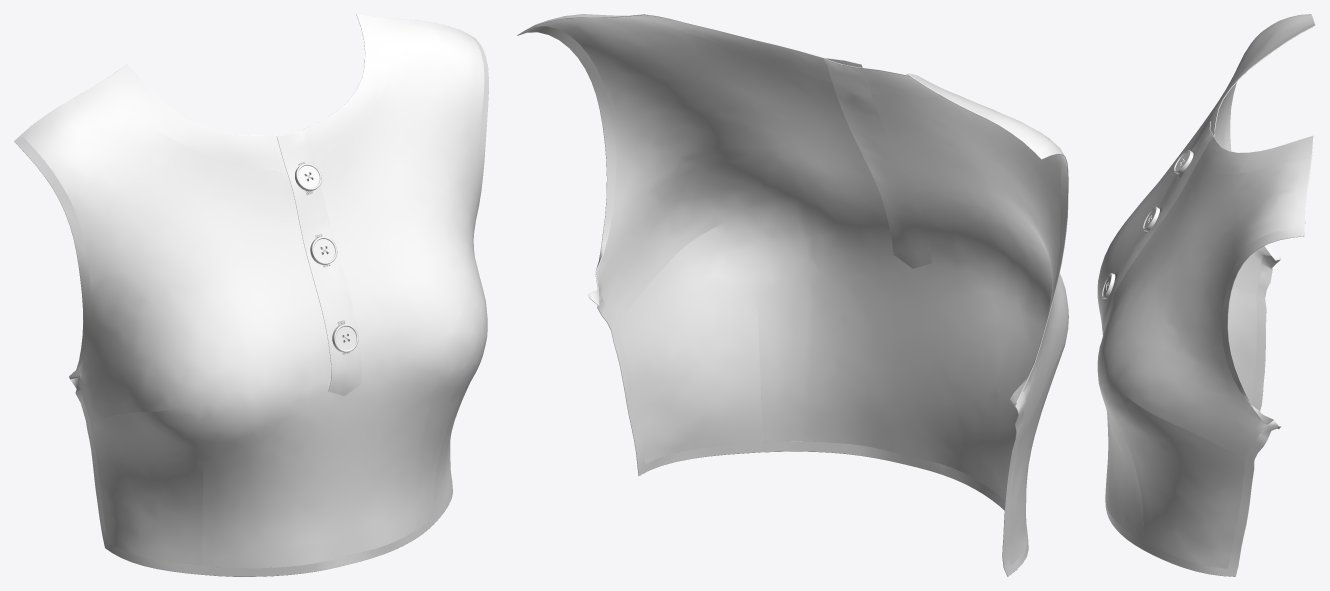
File: Mock_button_placket_front.glb
3 views of the same model, side by side, from view 1: azimuth 30°, elevation 25°; view 2: azimuth 150°, elevation 25°; view 3: azimuth 270°, elevation 25° (orthographic). The views are drawn at different scales.
Parts seen in each view (by area): view 1: mock_button_placket_front_10_Node, mock_button_placket_front_3_Node, contrast_Node, contrast_1_Node, mock_button_placket_front_Node, mock_button_placket_front_8_Node, mock_button_placket_front_4_Node, mock_button_placket_front_5_Node, mock_button_placket_front_7_Node, MatShape_598529_Node, MatShape_598539_Node, MatShape_598519_Node; view 2: mock_button_placket_front_10_Node, mock_button_placket_front_4_Node, contrast_1_Node, mock_button_placket_front_7_Node, mock_button_placket_front_8_Node, mock_button_placket_front_1_Node, contrast_Node, mock_button_placket_front_Node, mock_button_placket_front_5_Node; view 3: mock_button_placket_front_10_Node, contrast_1_Node, mock_button_placket_front_3_Node, mock_button_placket_front_1_Node, mock_button_placket_front_7_Node, mock_button_placket_front_5_Node, contrast_Node, mock_button_placket_front_9_Node, mock_button_placket_front_Node, mock_button_placket_front_6_Node, mock_button_placket_front_8_Node, MatShape_598519_Node.
Boxes of the visible parts, x1,y1,x2,y2 form: mock_button_placket_front_10_Node: (21,17,487,568); mock_button_placket_front_3_Node: (276,128,361,395); contrast_Node: (100,64,280,170); contrast_1_Node: (306,14,392,162); mock_button_placket_front_Node: (14,135,90,379); mock_button_placket_front_8_Node: (202,516,433,576); mock_button_placket_front_4_Node: (271,128,361,389); mock_button_placket_front_5_Node: (86,421,202,574); mock_button_placket_front_7_Node: (470,35,488,219); MatShape_598529_Node: (310,236,337,264); MatShape_598539_Node: (332,324,358,352); MatShape_598519_Node: (295,163,321,191); mock_button_placket_front_10_Node: (524,14,1068,565); mock_button_placket_front_4_Node: (823,58,931,268); contrast_1_Node: (613,14,832,82); mock_button_placket_front_7_Node: (517,26,616,306); mock_button_placket_front_8_Node: (762,441,1005,510); mock_button_placket_front_1_Node: (611,323,762,475); contrast_Node: (861,67,948,96); mock_button_placket_front_Node: (1010,144,1068,406); mock_button_placket_front_5_Node: (1002,433,1028,576); mock_button_placket_front_10_Node: (1097,14,1314,568); contrast_1_Node: (1197,135,1313,174); mock_button_placket_front_3_Node: (1101,121,1213,334); mock_button_placket_front_1_Node: (1143,457,1254,576); mock_button_placket_front_7_Node: (1221,228,1304,428); mock_button_placket_front_5_Node: (1252,295,1266,411); contrast_Node: (1202,23,1315,133); mock_button_placket_front_9_Node: (1256,255,1280,298); mock_button_placket_front_Node: (1224,82,1280,260); mock_button_placket_front_6_Node: (1245,420,1280,459); mock_button_placket_front_8_Node: (1105,488,1143,549); MatShape_598519_Node: (1173,150,1193,174).
Size of the model in its own units: 37.48 by 34.9 by 16.22.
45 materials, 3 textured.
